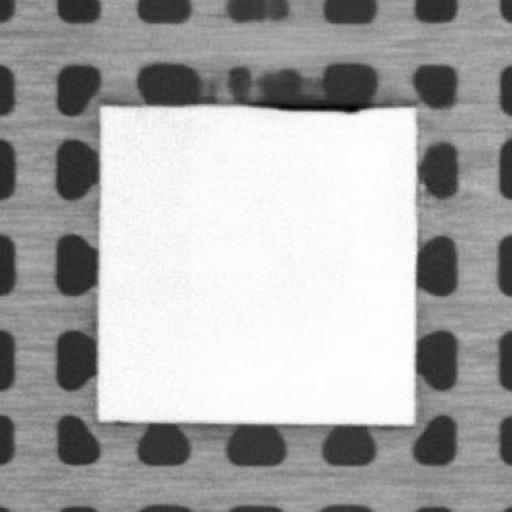DIE_BROKEN: (246, 99, 374, 112)
